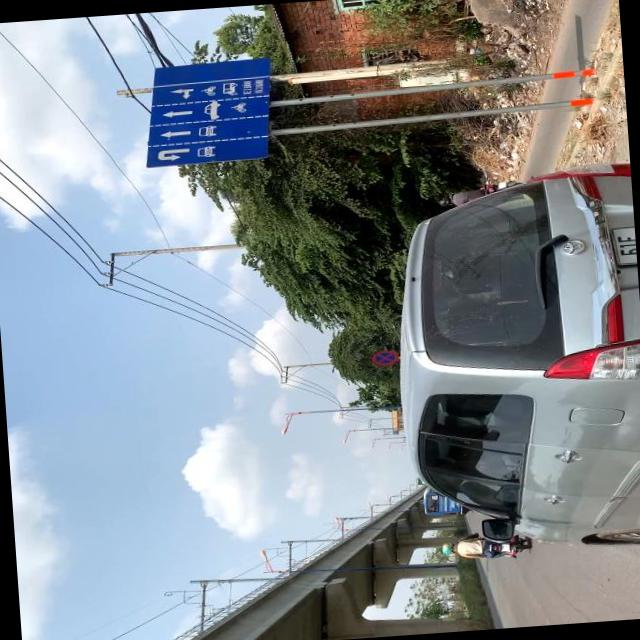P-130: (371, 348, 398, 366)
